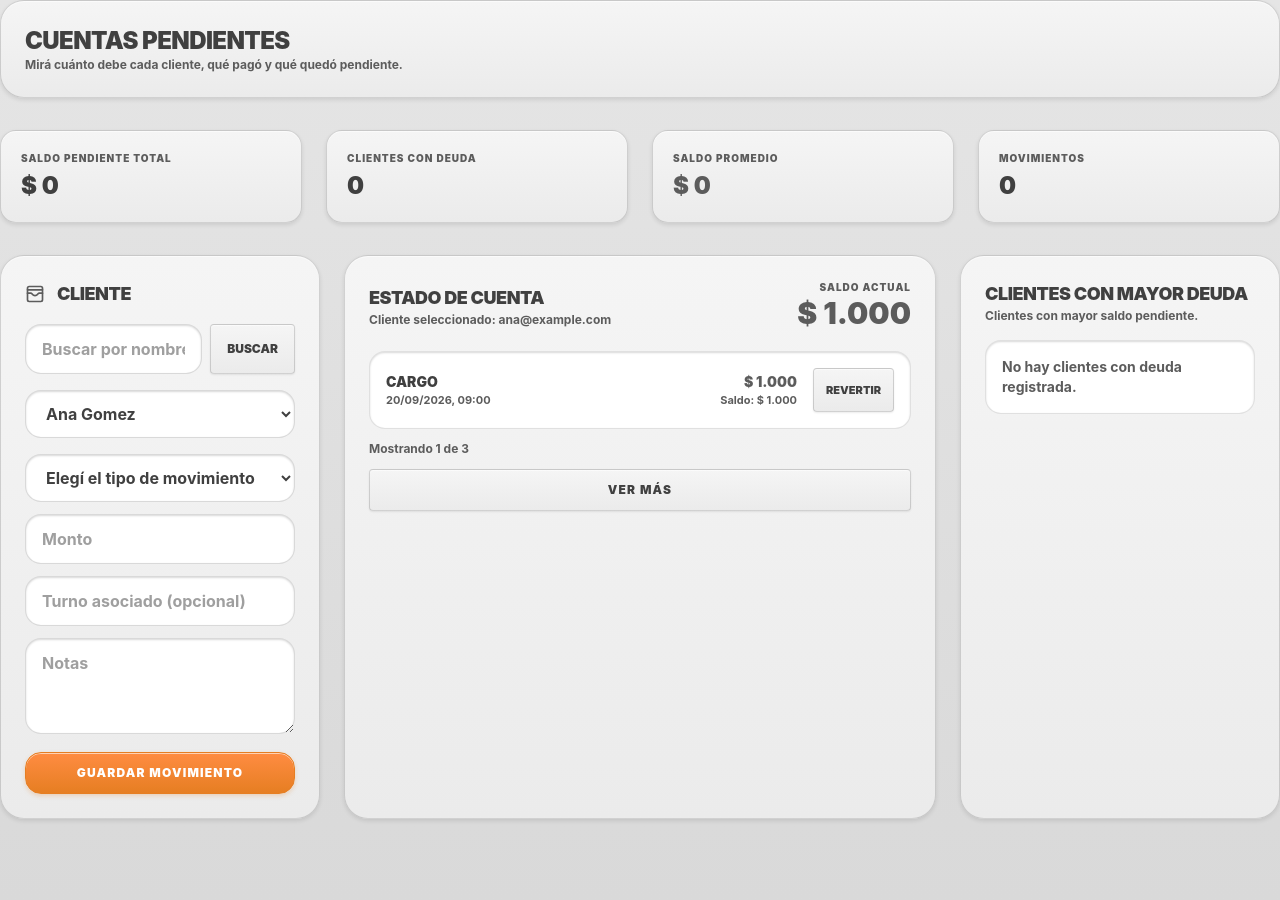
Test: LedgerPage: cargar un movimiento › un 422 del servidor muestra el motivo mapeado junto al formulario, nunca el texto crudo
Select "Ajuste" in the dropdown named "Tipo de movimiento" at (160,478), box [25,454,295,502]
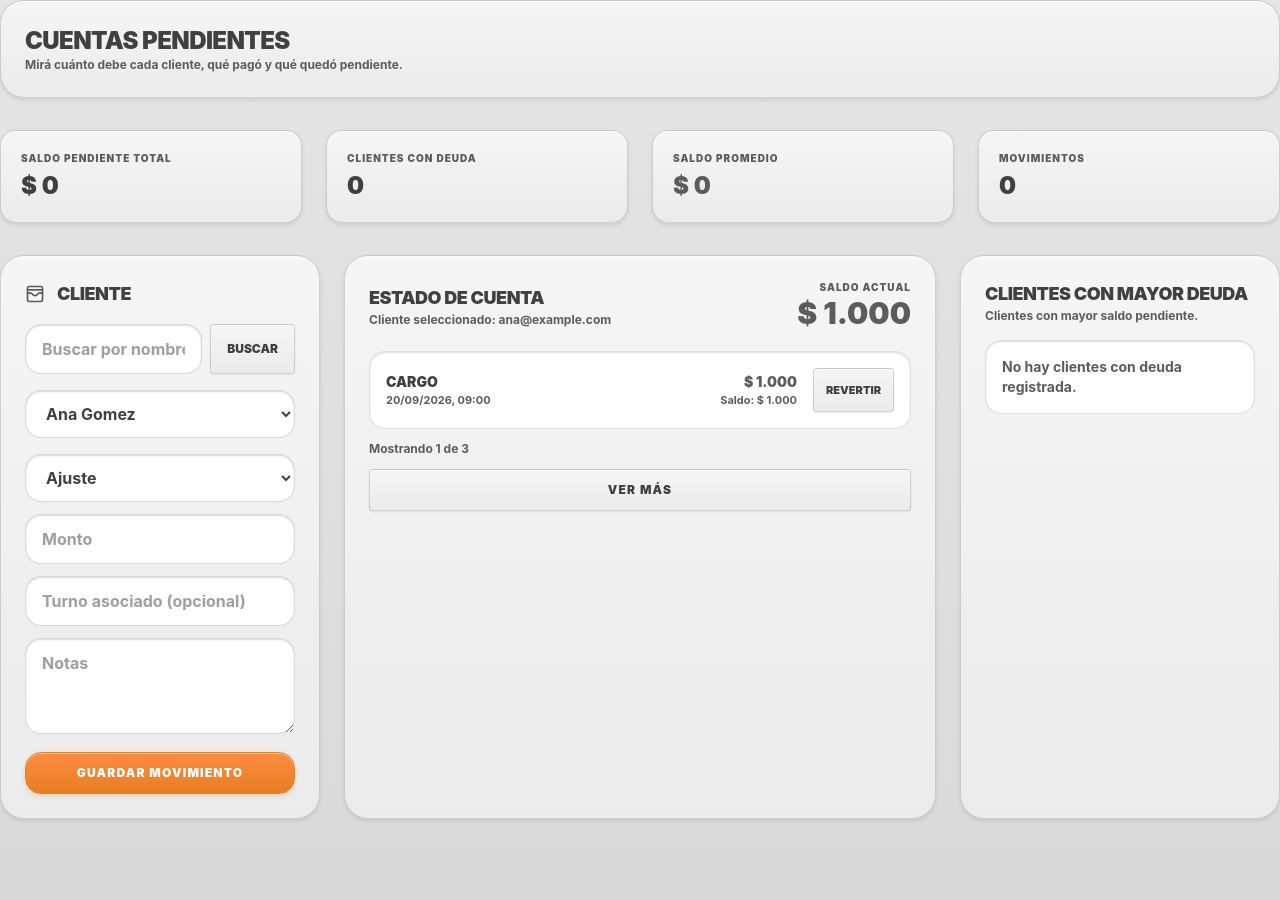
Type "100" into the field labelled "Monto" at (160,539), box [25,514,295,564]
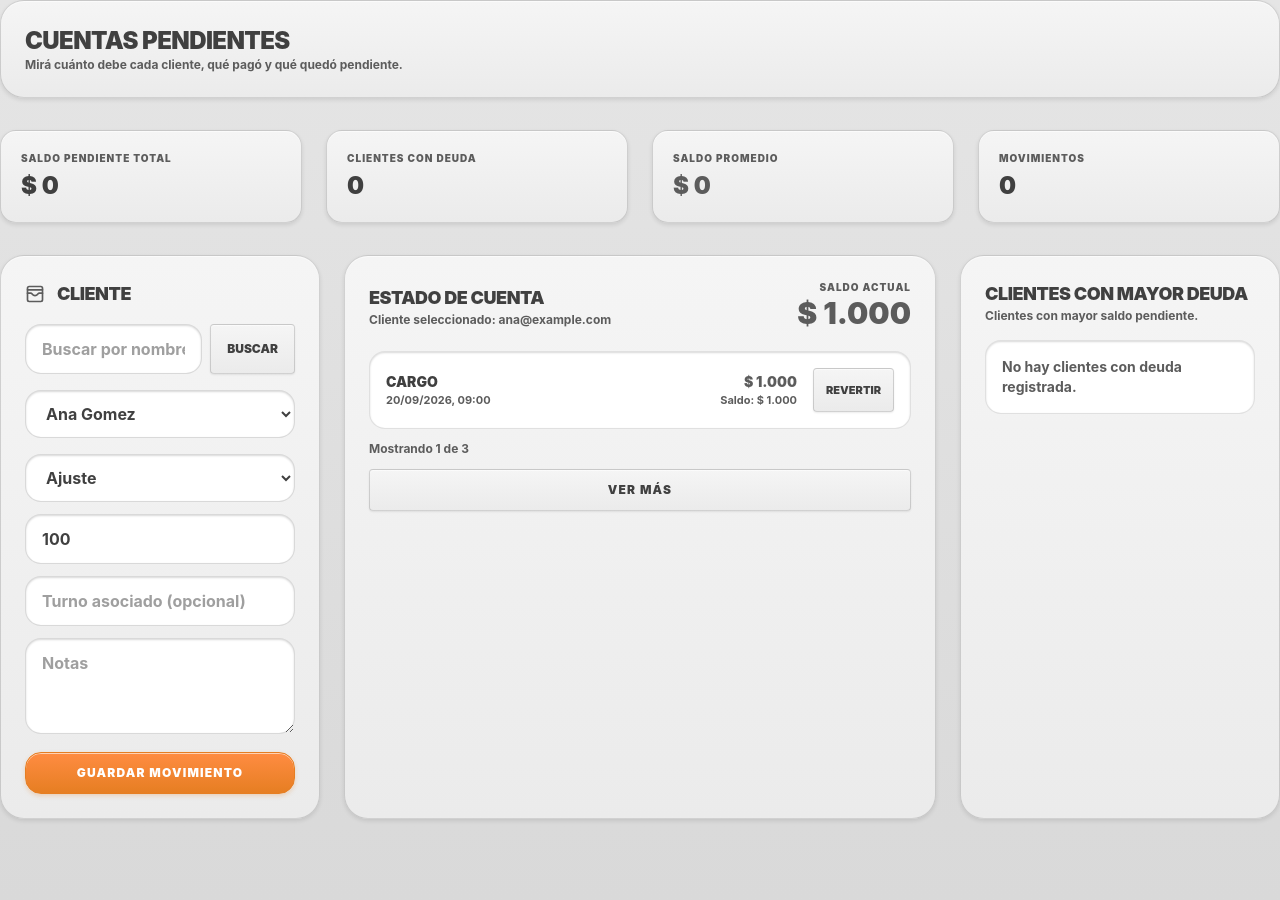
Click the button "Guardar movimiento" at (160,773), box [25,752,295,794]
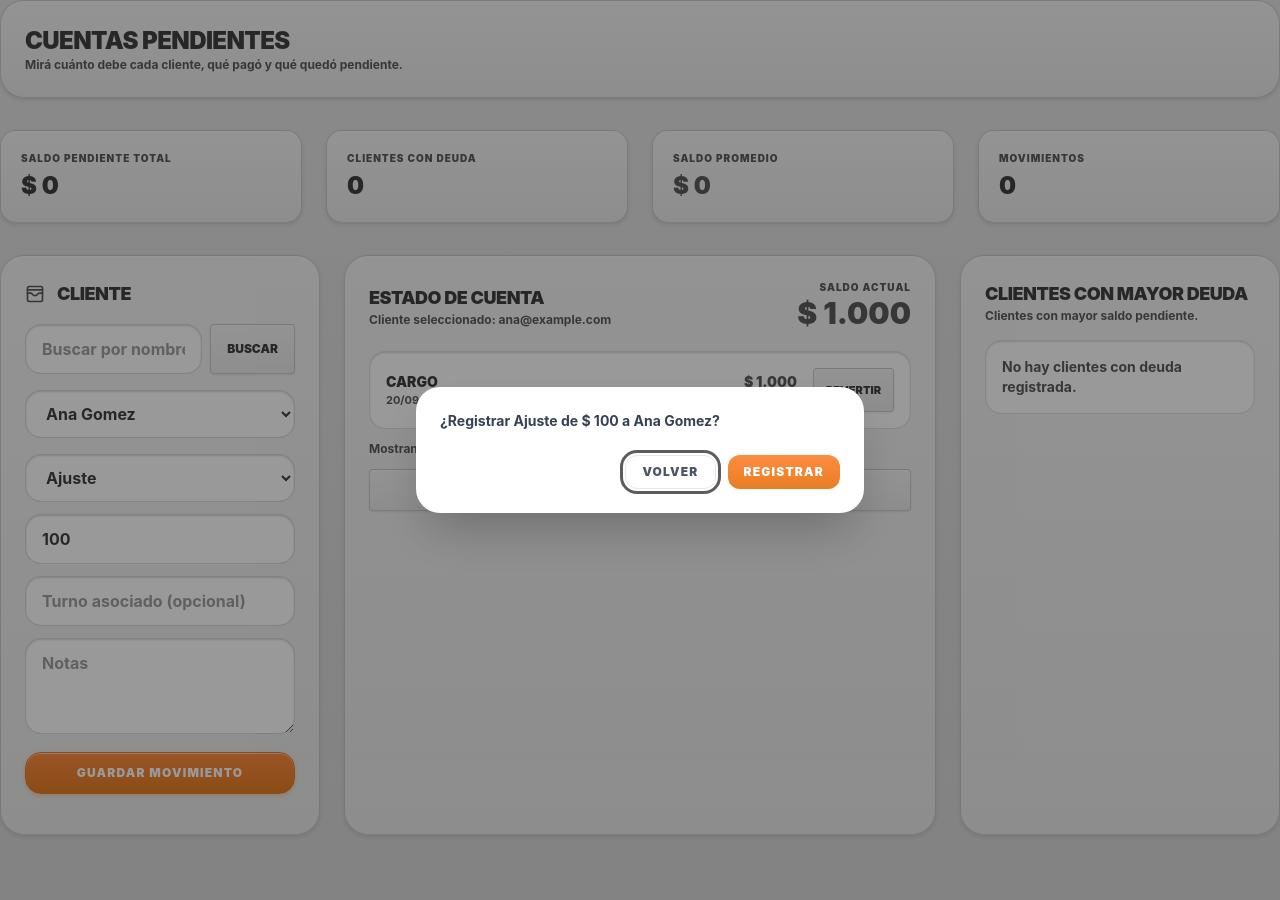
Click the button "Registrar" at (784,472), box [728,455,840,489]
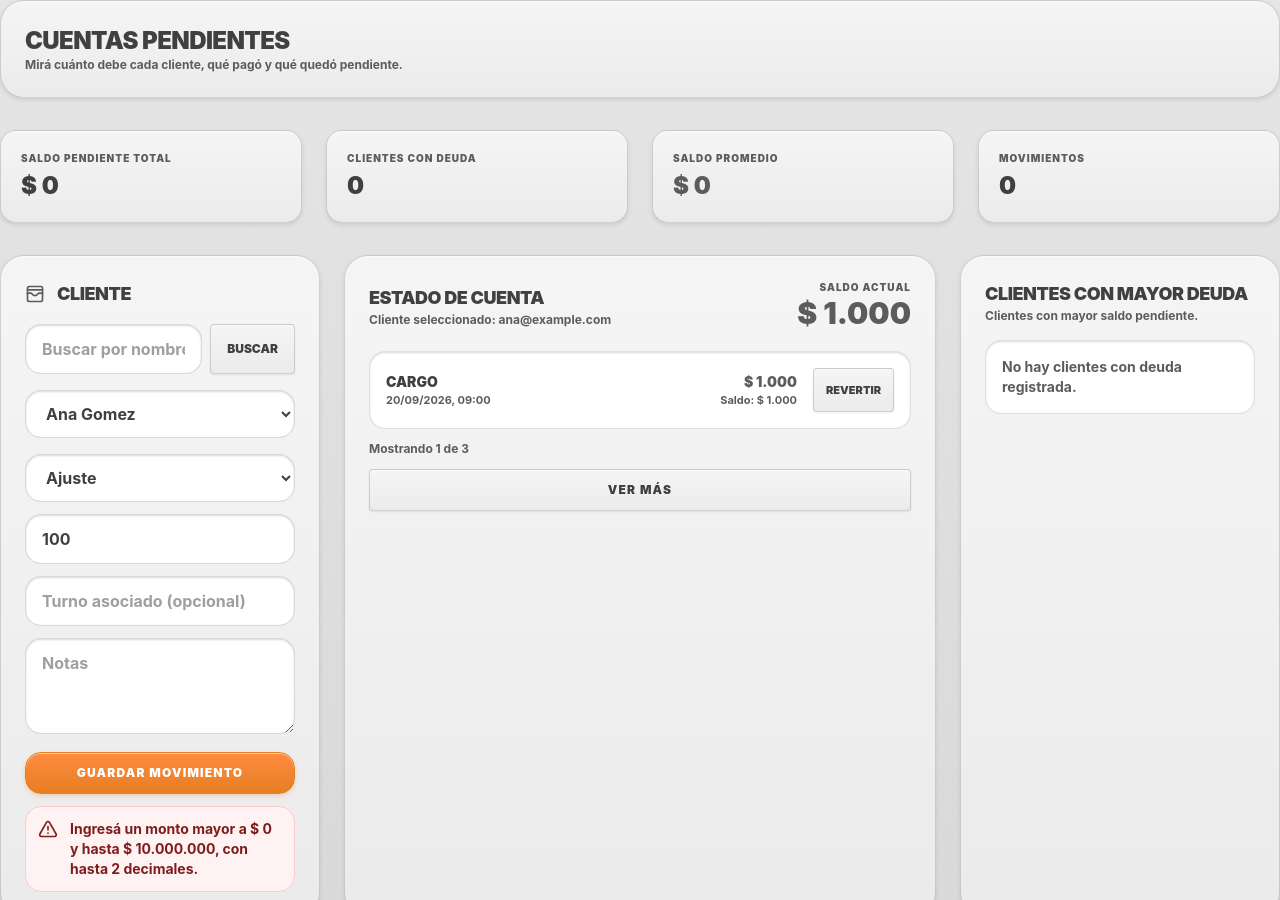
Expected: the message does not show "Input should", [25,806,295,892]
Expected: the message shows "monto", [70,820,272,877]
